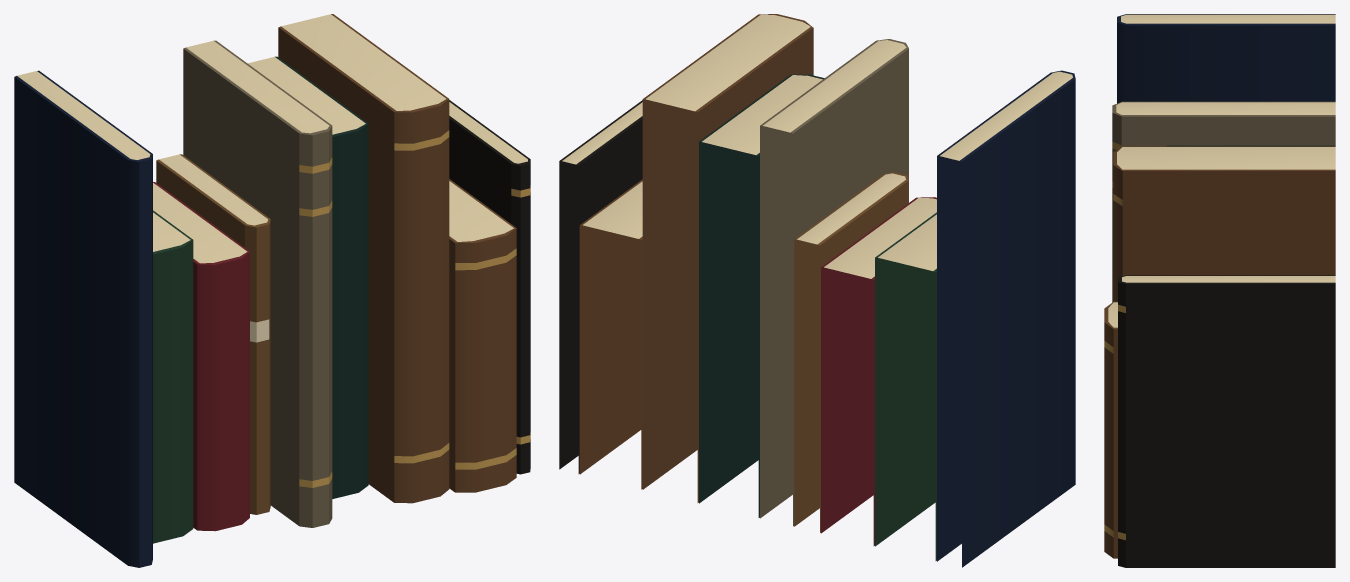
The model's file is bookrow_tall_7.glb.
3 views of the same model, side by side, from view 1: azimuth 30°, elevation 25°; view 2: azimuth 150°, elevation 25°; view 3: azimuth 270°, elevation 25° (orthographic). The views are drawn at different scales.
Visible parts, largest first — view 1: bookrow_tall_7; view 2: bookrow_tall_7; view 3: bookrow_tall_7.
Part boxes in pixels (x1,y1,x2,y2): bookrow_tall_7: (14, 14, 530, 567); bookrow_tall_7: (559, 14, 1075, 567); bookrow_tall_7: (1104, 14, 1335, 567).
Bounding box in the file's own units: 0.4771 × 0.4603 × 0.258.
